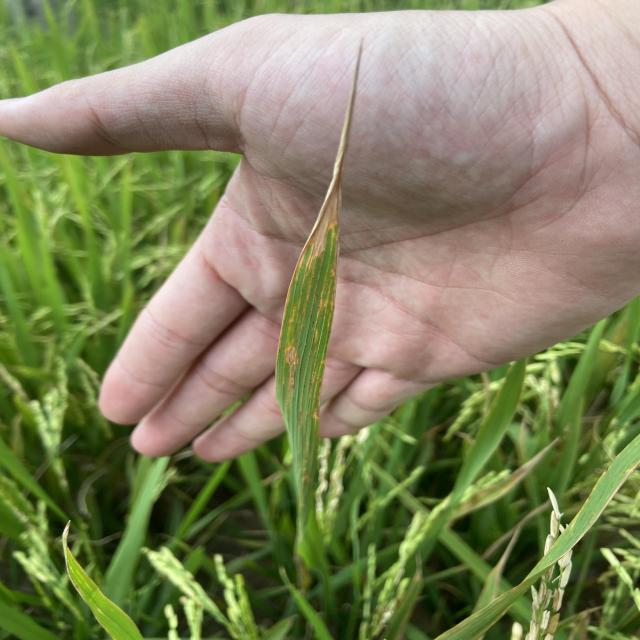Dom soc vi khuan: (313, 268, 337, 344), (283, 338, 301, 412), (301, 272, 315, 329), (308, 359, 318, 398), (289, 306, 296, 324), (299, 410, 303, 427)
